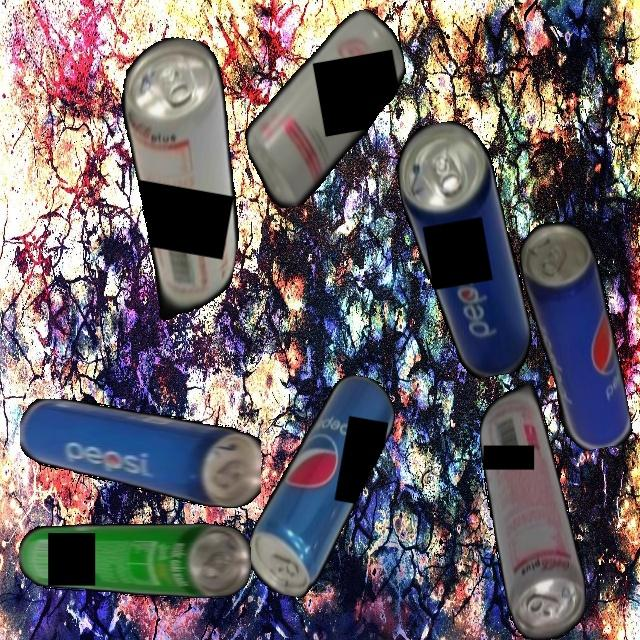debris: (85, 30, 271, 331), (228, 5, 425, 212), (390, 114, 537, 386), (242, 363, 400, 608), (515, 215, 634, 456), (479, 383, 586, 640), (19, 399, 261, 508), (18, 523, 251, 599)
